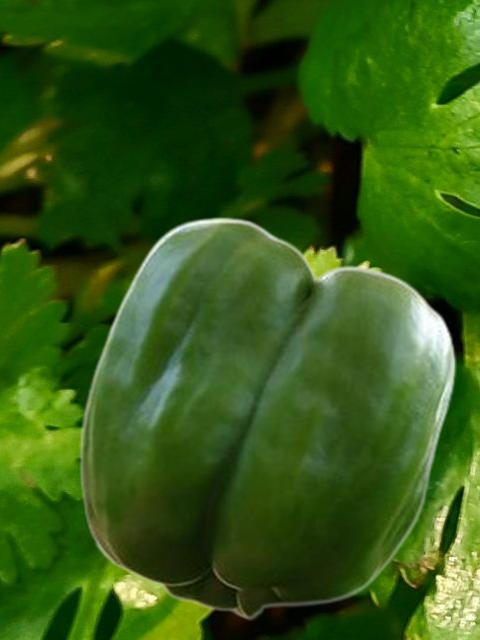bell_pepper: (78, 216, 455, 619)
